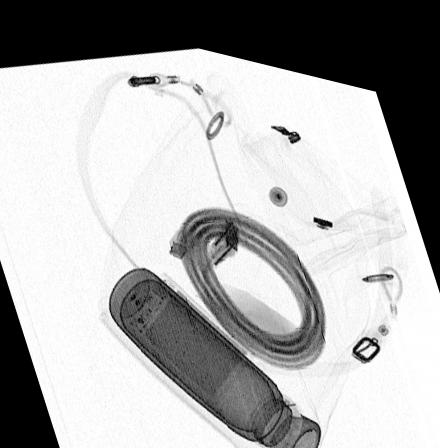Powerbank: (128, 262, 254, 391)
